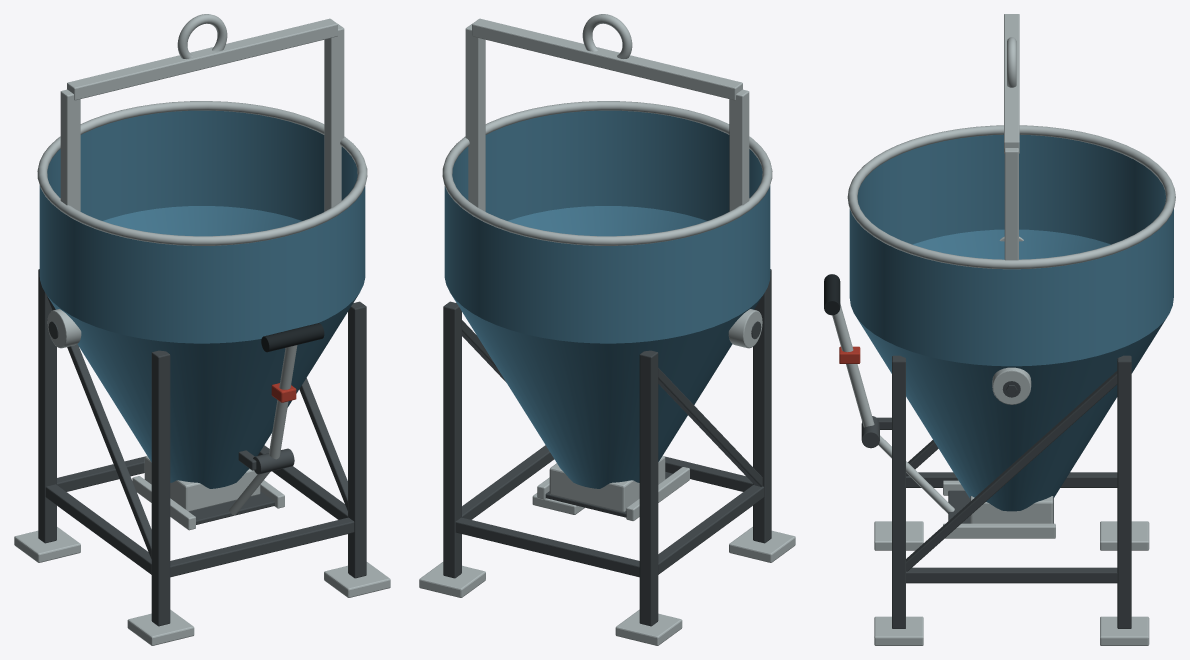
Rendered from city-concrete-pouring-skip.glb.
3 renders of one model, left to right at view 1: azimuth 30°, elevation 25°; view 2: azimuth 150°, elevation 25°; view 3: azimuth 270°, elevation 25°, orthographic.
Parts seen in each view (by area): view 1: Assembly | Blue formwork frame, Assembly | Galvanized-looking support steel, Assembly | Dark coated structure, Assembly | Dark recess and rubber; view 2: Assembly | Blue formwork frame, Assembly | Galvanized-looking support steel, Assembly | Dark coated structure; view 3: Assembly | Blue formwork frame, Assembly | Galvanized-looking support steel, Assembly | Dark coated structure, Assembly | Dark recess and rubber.
Boxes of the visible parts, box(x1,y1,x2,y2) form: Assembly | Blue formwork frame: box(39, 110, 365, 488); Assembly | Galvanized-looking support steel: box(14, 14, 390, 645); Assembly | Dark coated structure: box(38, 269, 366, 626); Assembly | Dark recess and rubber: box(261, 323, 324, 352); Assembly | Blue formwork frame: box(444, 110, 770, 488); Assembly | Galvanized-looking support steel: box(419, 14, 795, 645); Assembly | Dark coated structure: box(443, 269, 771, 626); Assembly | Blue formwork frame: box(849, 134, 1173, 511); Assembly | Galvanized-looking support steel: box(832, 14, 1175, 645); Assembly | Dark coated structure: box(861, 355, 1131, 628); Assembly | Dark recess and rubber: box(824, 274, 840, 315).
Bounding box in the file's own units: 0.9787 × 1.72 × 0.999.
